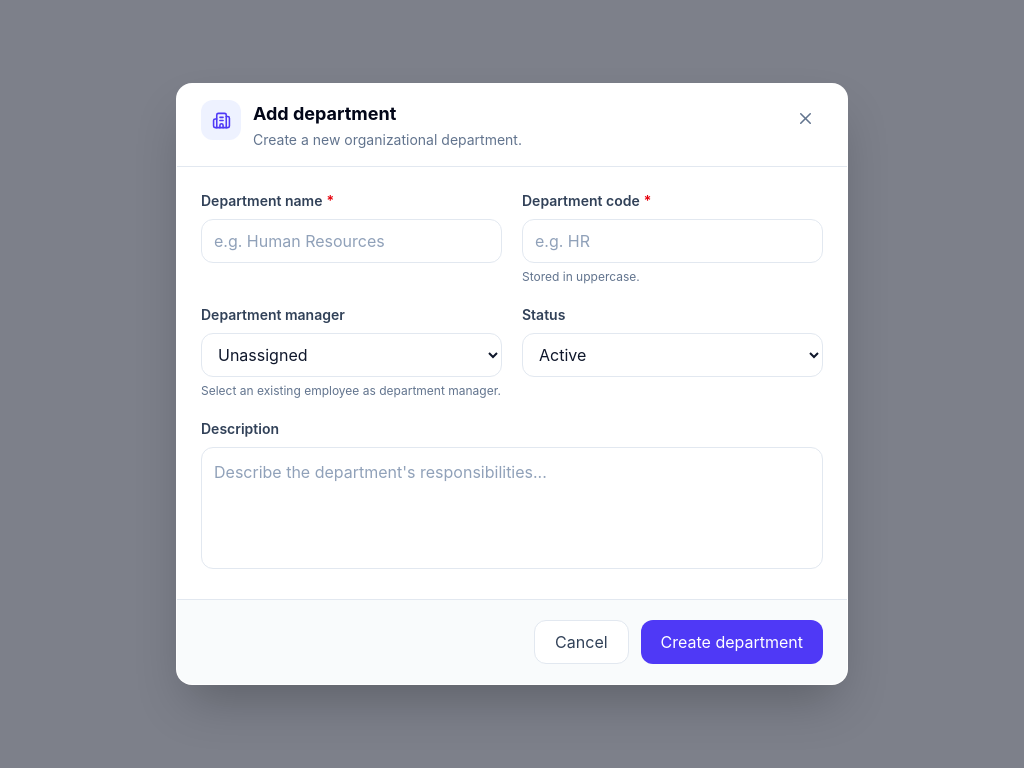
DepartmentForm › renders required schema errors and does not submit
This screenshot has width=1024, height=768.
Click the button "Create department".
click(732, 642)  # box [641,620,823,664]
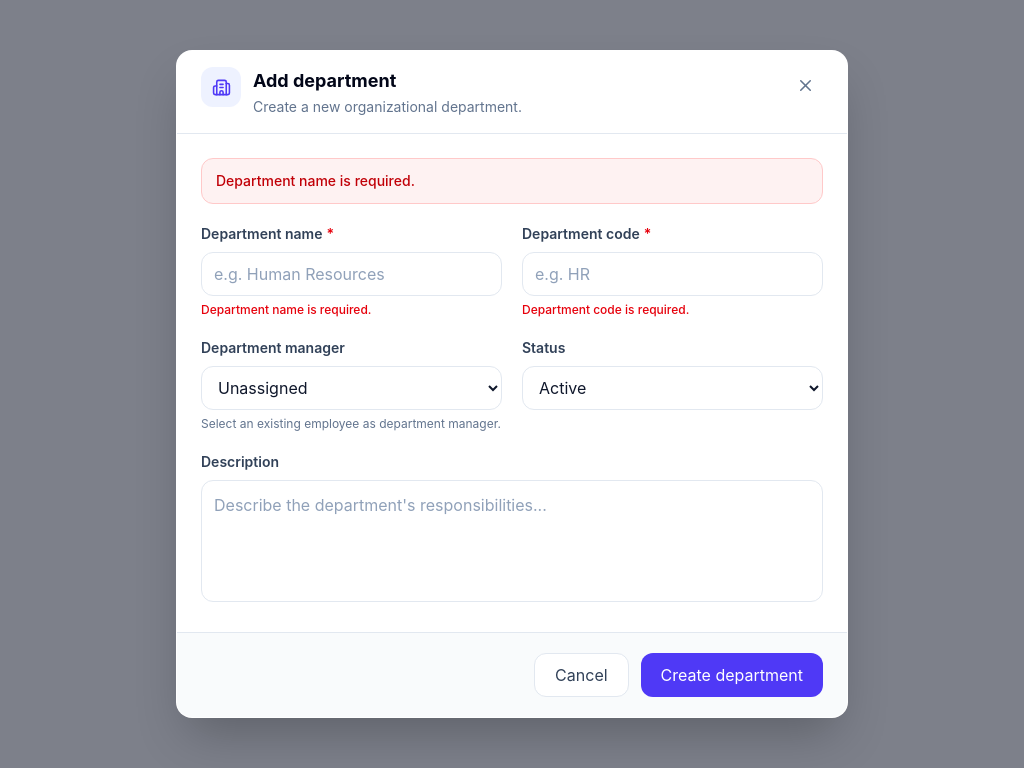
Now the text "Department name is required." is shown, box [201,158,823,204]
Now the text "Department code is required." is shown, box [522,302,689,317]
